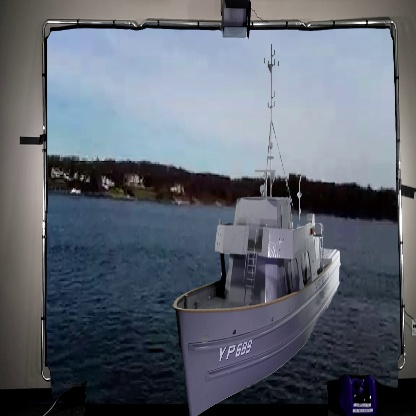YP689: (173, 43, 343, 416)
